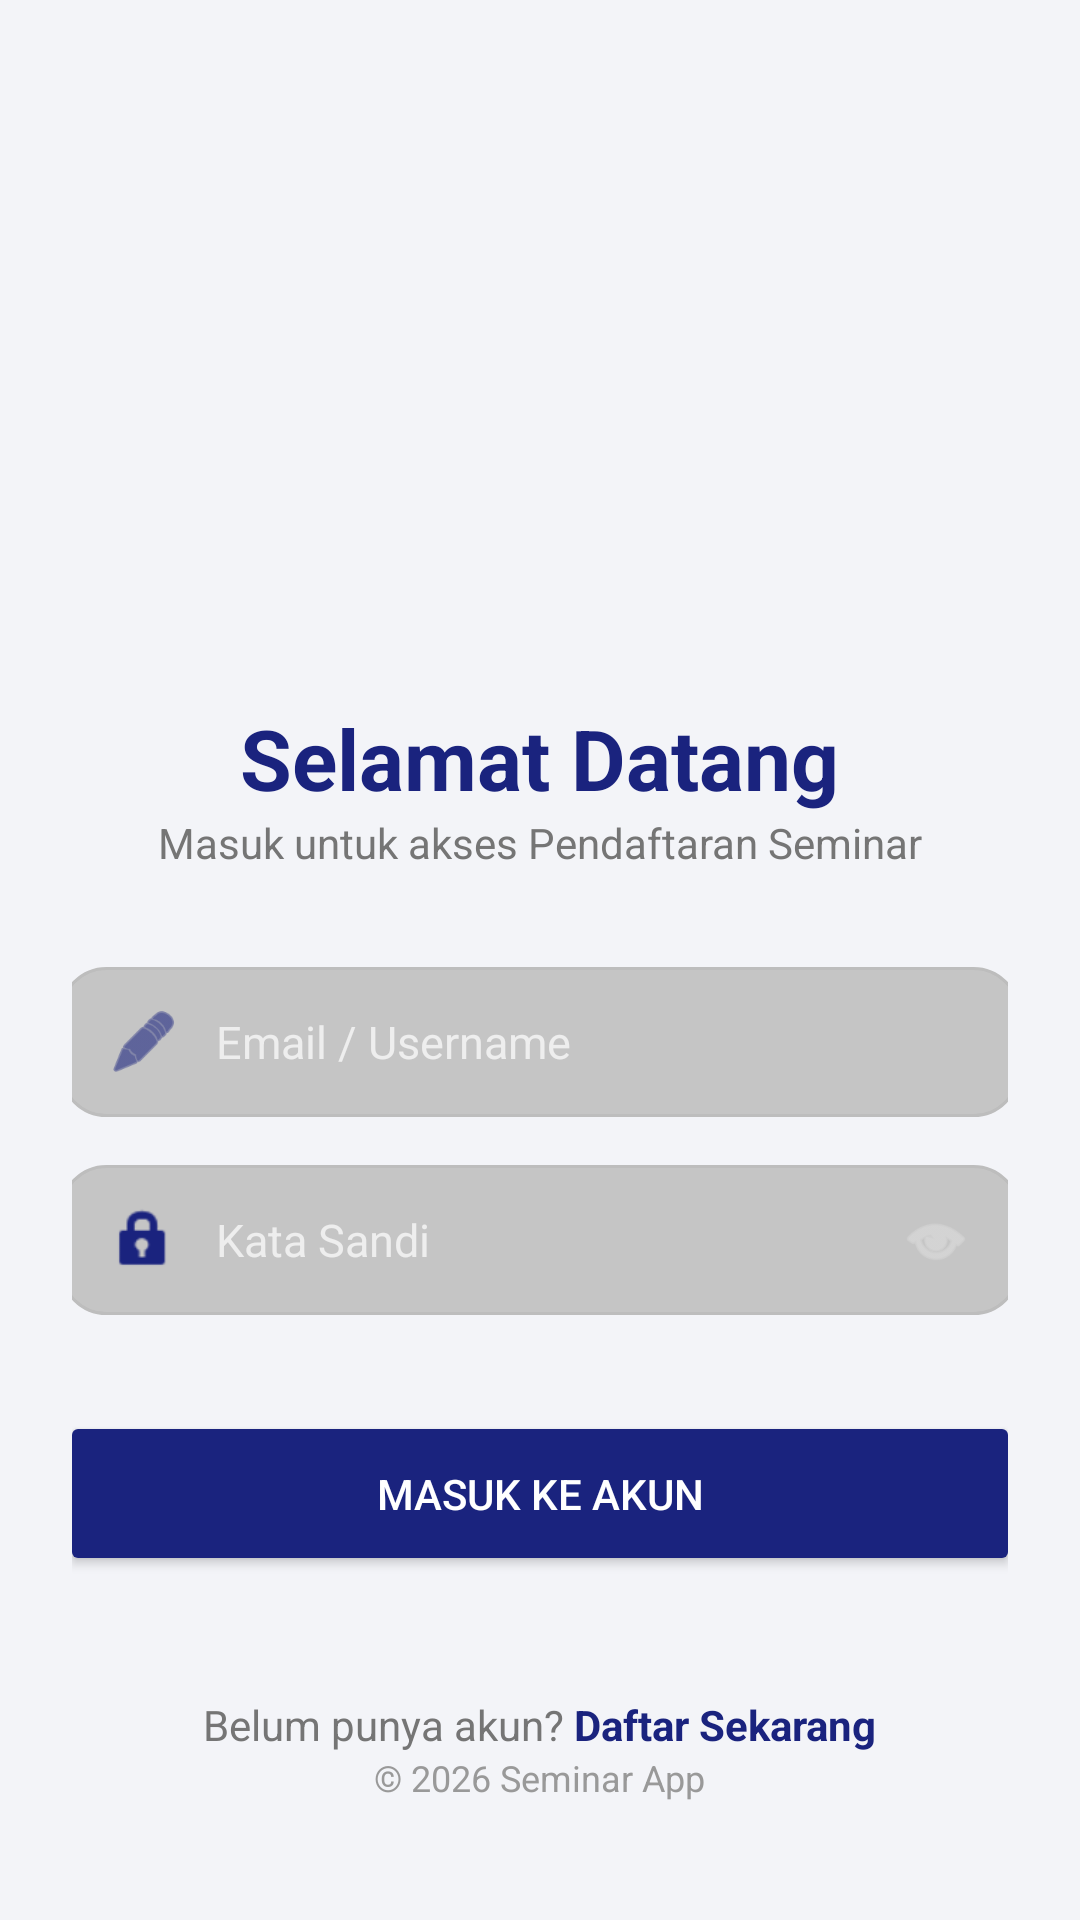

Where icons sit on this 1080×1920 app screen, as (x1, y1, x2, y2):
edit: (113, 1011, 174, 1072)
lock idle: (119, 1210, 166, 1265)
